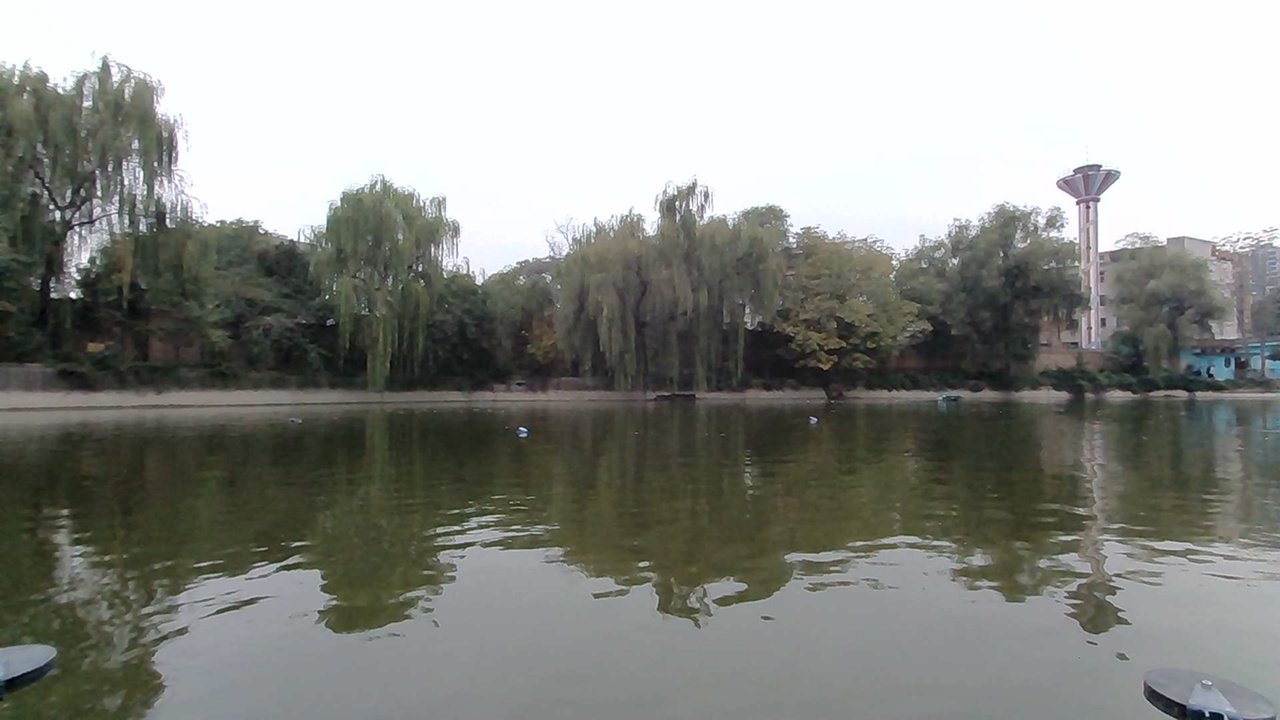bottle: (279, 402, 315, 433), (506, 413, 545, 441), (798, 406, 829, 427)
